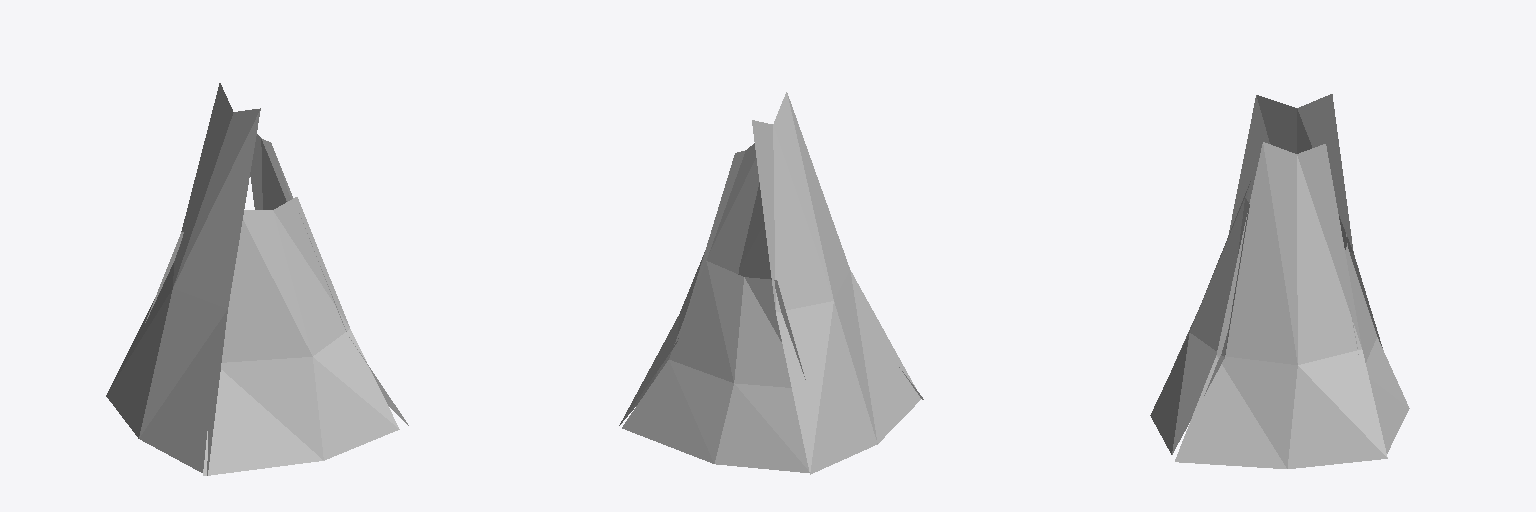
Rendered from terokkarweb04.obj.
The picture shows the model from 3 angles: view 1: azimuth 30°, elevation 25°; view 2: azimuth 150°, elevation 25°; view 3: azimuth 270°, elevation 25°; orthographic projection.
Parts seen in each view (by area): view 1: terokkarweb04; view 2: terokkarweb04; view 3: terokkarweb04.
Part boxes in pixels (x1,y1,x2,y2): terokkarweb04: (106,83,408,475); terokkarweb04: (619,92,923,474); terokkarweb04: (1150,94,1409,468).
Bounding box in the file's own units: 10.05 × 13.37 × 9.95.